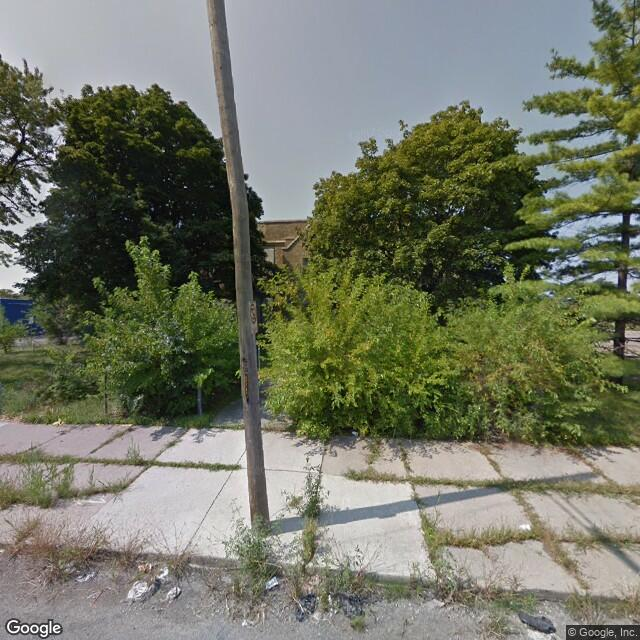litter: (519, 608, 555, 633), (59, 557, 94, 581), (332, 591, 363, 617), (128, 577, 156, 604), (297, 590, 319, 623), (167, 583, 184, 606), (72, 495, 107, 506), (263, 572, 280, 592), (517, 524, 534, 531), (50, 417, 62, 425)
